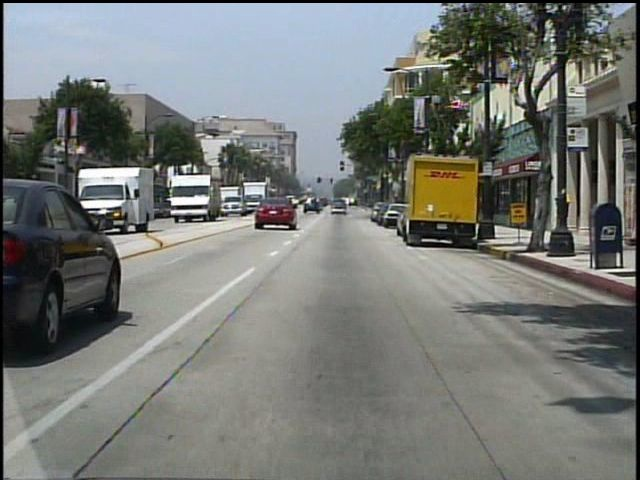person: (555, 184, 573, 235)
